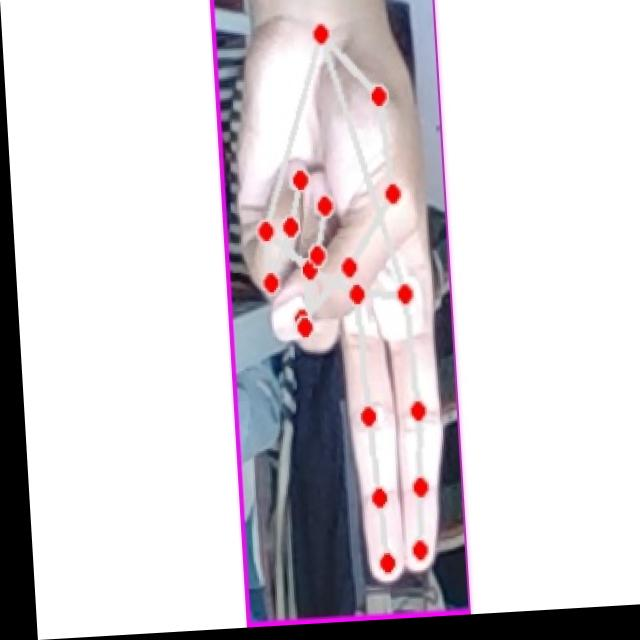U: (225, 13, 450, 597)
